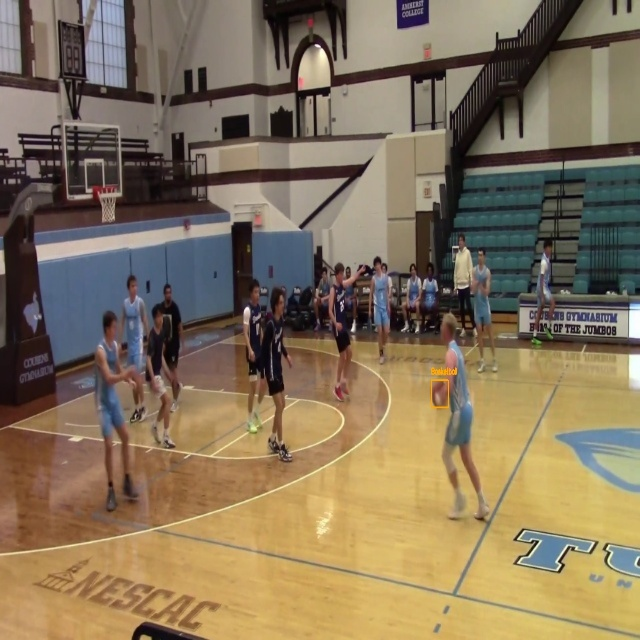Basketball: (431, 380, 448, 407)
